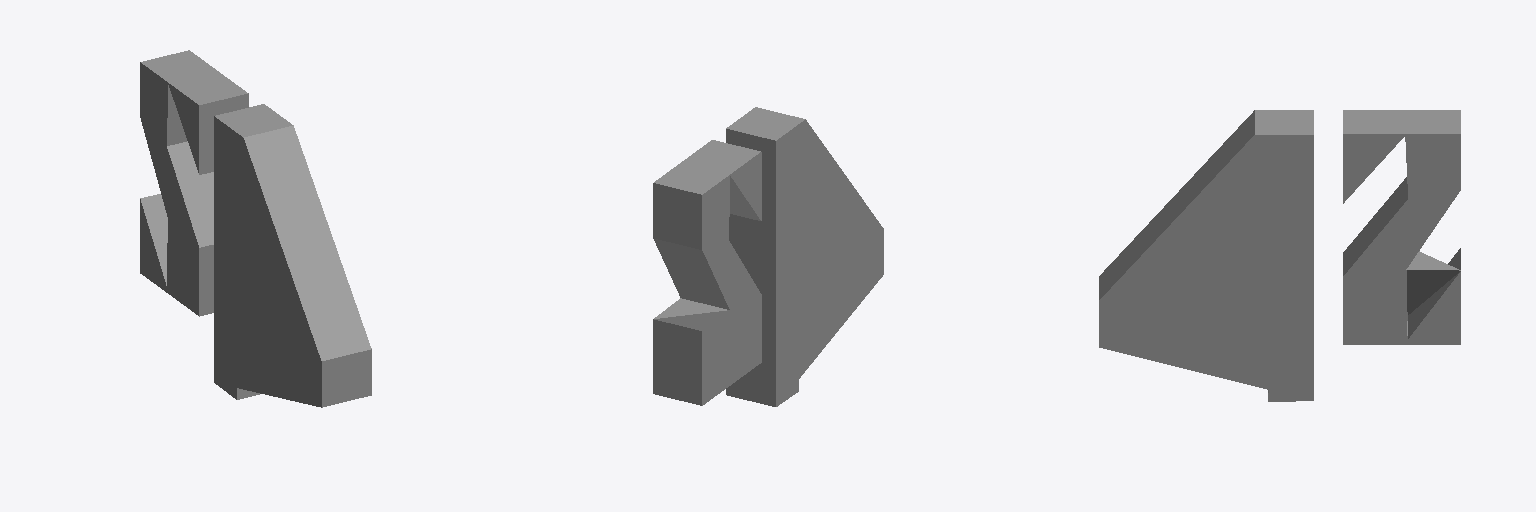
3 renders of one model, left to right at view 1: azimuth 30°, elevation 25°; view 2: azimuth 150°, elevation 25°; view 3: azimuth 270°, elevation 25°, orthographic.
Visible parts, largest first — view 1: Cube, MameneMamene; view 2: Cube, MameneMamene; view 3: Cube, MameneMamene.
Boxes of the visible parts, box(x1,y1,x2,y2) form: Cube: box(140, 50, 371, 407); MameneMamene: box(214, 104, 320, 406); Cube: box(653, 107, 883, 406); MameneMamene: box(726, 107, 882, 406); Cube: box(1099, 110, 1460, 401); MameneMamene: box(1099, 110, 1313, 397).
Size of the model in its own units: 0.4599 by 2.34 by 2.88.